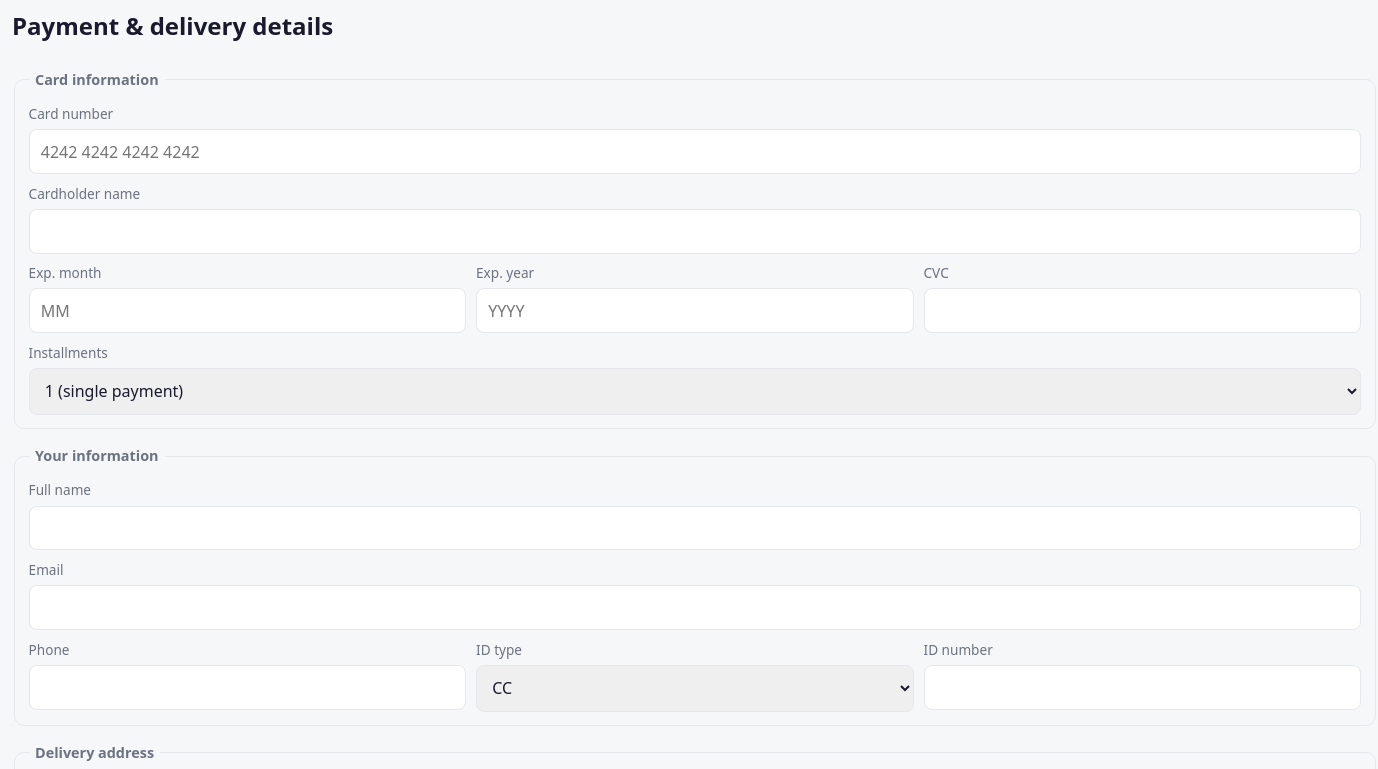
Test: DetailsForm › detects the card brand as the user types
Type "4242" into the field with placeholder "4242 4242 4242 4242".
click(695, 152); type("4242")  # box x1=29 y1=129 x2=1361 y2=174
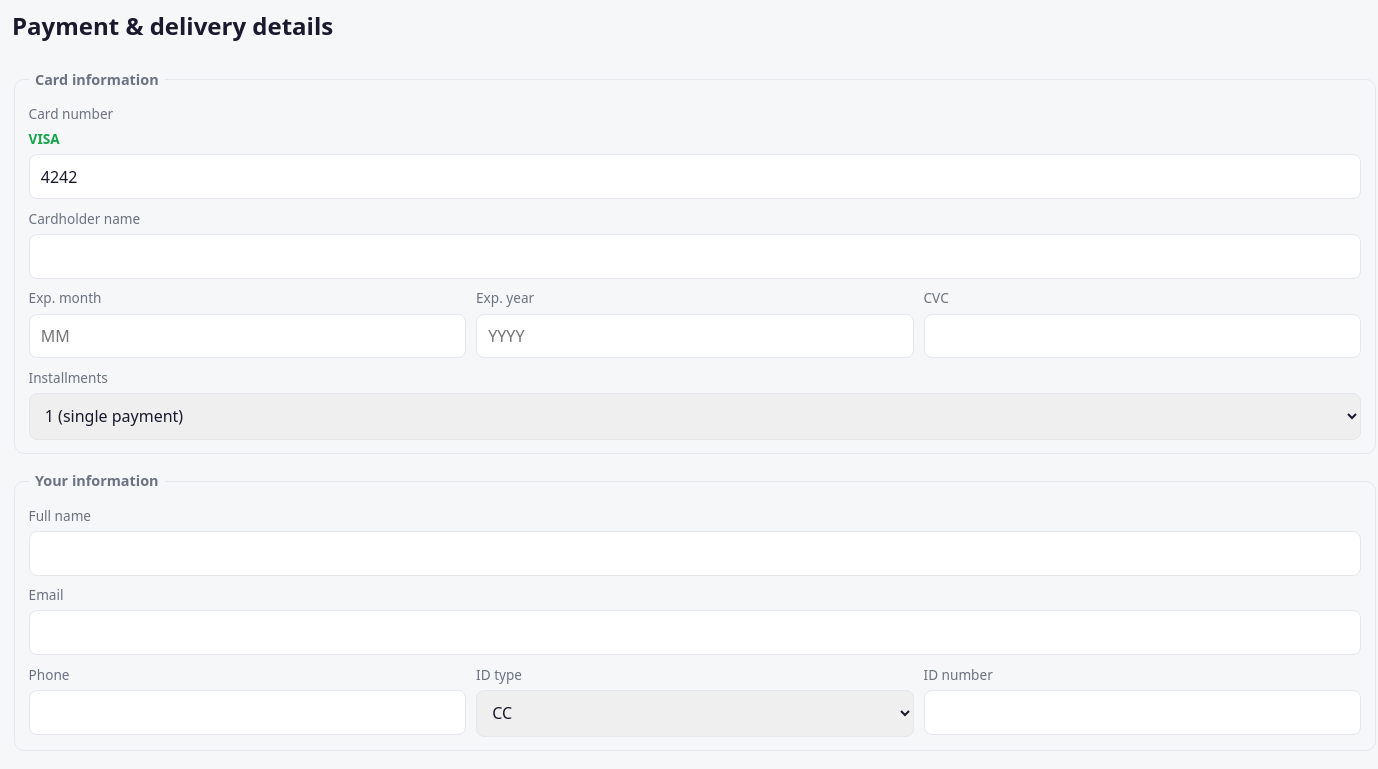
Result: the text "VISA" is shown at x1=29 y1=129 x2=60 y2=148
